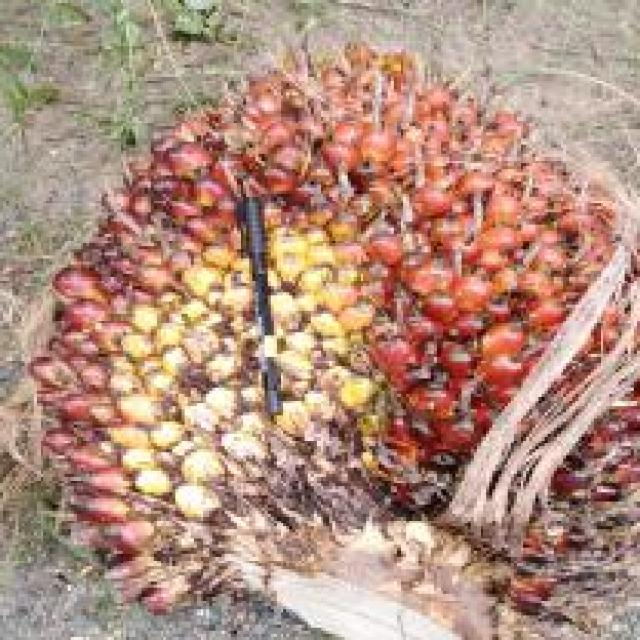overripe: (31, 37, 640, 640)
